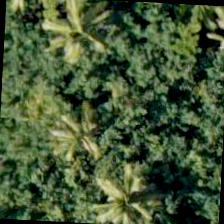Kelapa_Sawit: (34, 86, 128, 181), (77, 146, 173, 223), (30, 0, 125, 72)
